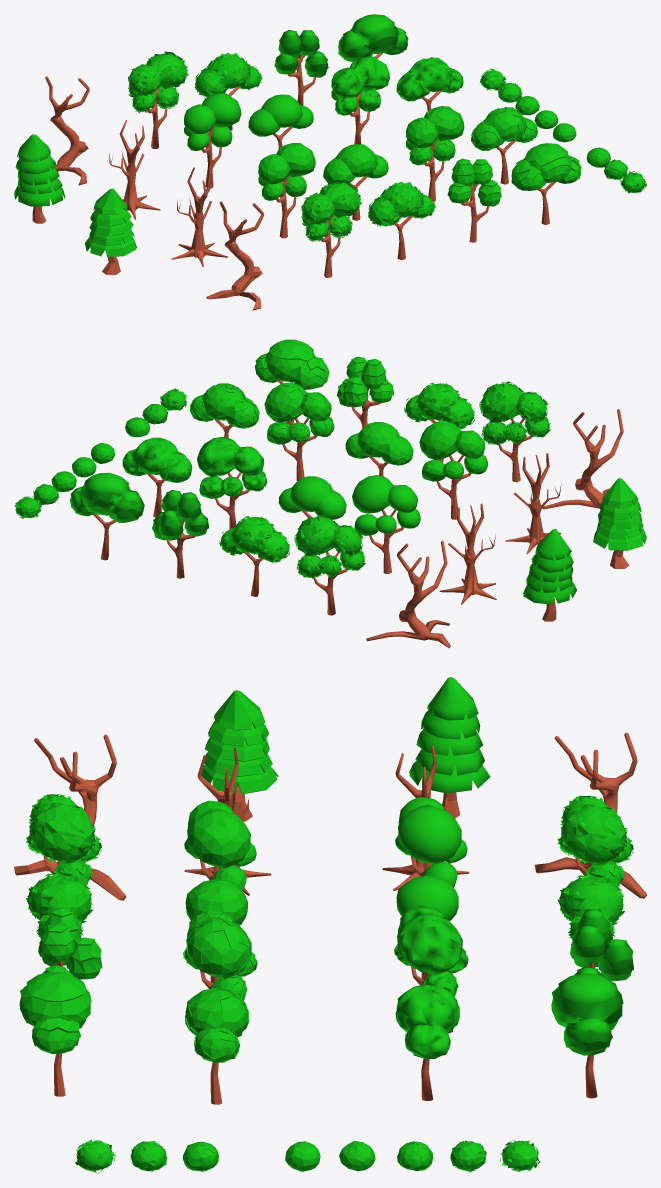
The model's file is low_poly_trees_and_bushes.fbx.
3 views of the same model, one above another, from view 1: azimuth 30°, elevation 25°; view 2: azimuth 150°, elevation 25°; view 3: azimuth 270°, elevation 25° (orthographic). The views are drawn at different scales.
Parts seen in each view (by area): view 1: tree.003, tree.011, tree.008, tree.016, tree.002, tree.020, tree.010, tree.019, tree.007, tree.015, tree.005, tree.006 (+12 smaller); view 2: tree.003, tree.011, tree.008, tree.016, tree.010, tree.002, tree.020, tree.019, tree.015, tree.007, tree.013, tree.017 (+12 smaller); view 3: tree.020, tree.019, tree.015, tree.007, tree.003, tree.011, tree.016, tree.008, tree.002, tree.010, tree.017, tree.009 (+18 smaller).
Boxes of the visible parts, bbox=[...] form: tree.003: bbox=[301, 180, 361, 277]; tree.011: bbox=[128, 51, 188, 148]; tree.008: bbox=[405, 106, 464, 201]; tree.016: bbox=[331, 56, 389, 144]; tree.002: bbox=[258, 143, 315, 238]; tree.020: bbox=[14, 134, 65, 223]; tree.010: bbox=[184, 93, 241, 188]; tree.019: bbox=[85, 188, 136, 274]; tree.007: bbox=[511, 143, 581, 224]; tree.015: bbox=[338, 14, 408, 61]; tree.005: bbox=[368, 181, 435, 260]; tree.006: bbox=[447, 158, 501, 242]; tree.003: bbox=[479, 381, 550, 482]; tree.011: bbox=[294, 514, 365, 615]; tree.008: bbox=[264, 382, 334, 480]; tree.016: bbox=[197, 437, 266, 529]; tree.010: bbox=[352, 475, 420, 573]; tree.002: bbox=[419, 420, 487, 519]; tree.020: bbox=[523, 529, 576, 621]; tree.019: bbox=[593, 478, 646, 568]; tree.015: bbox=[70, 472, 144, 560]; tree.007: bbox=[254, 339, 329, 425]; tree.013: bbox=[219, 516, 289, 596]; tree.017: bbox=[122, 437, 192, 517]; tree.020: bbox=[409, 677, 490, 818]; tree.019: bbox=[201, 690, 278, 821]; tree.015: bbox=[551, 973, 623, 1098]; tree.007: bbox=[19, 972, 91, 1096]; tree.003: bbox=[25, 794, 101, 885]; tree.011: bbox=[557, 795, 633, 887]; tree.016: bbox=[394, 905, 468, 996]; tree.008: bbox=[183, 909, 257, 1000]; tree.002: bbox=[184, 800, 256, 890]; tree.010: bbox=[395, 797, 467, 887]; tree.017: bbox=[395, 984, 459, 1100]; tree.009: bbox=[184, 988, 248, 1104].
Bounding box in the file's own units: 37.87 × 9.24 × 53.53.
